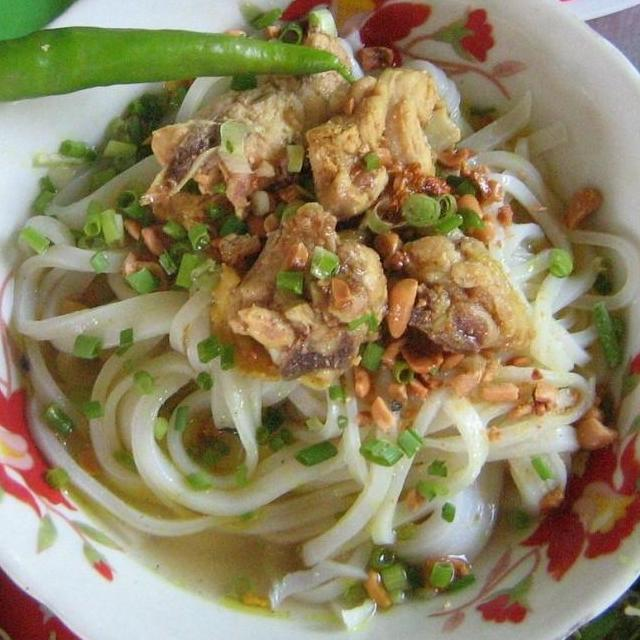mi: (0, 148, 367, 549), (259, 334, 621, 640), (435, 79, 640, 376)
thit heo: (139, 27, 367, 222), (199, 198, 396, 392), (301, 62, 466, 220), (368, 227, 538, 356)
